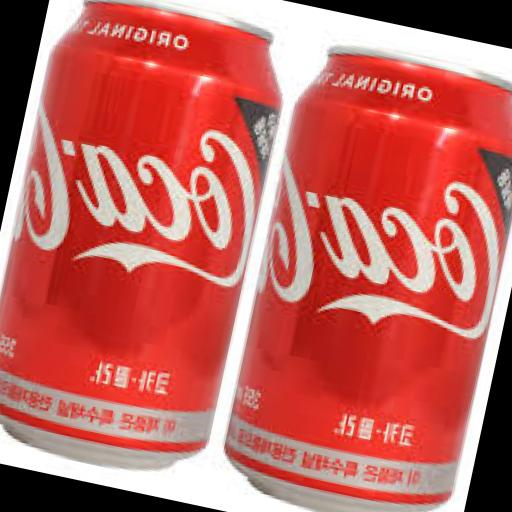Coca: (201, 21, 512, 512), (0, 0, 303, 489)
